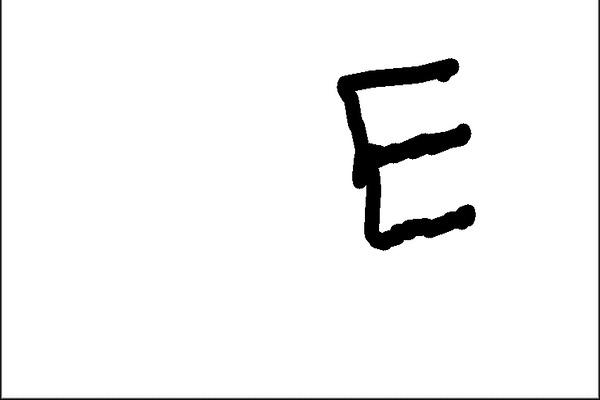E: (330, 53, 489, 253)
